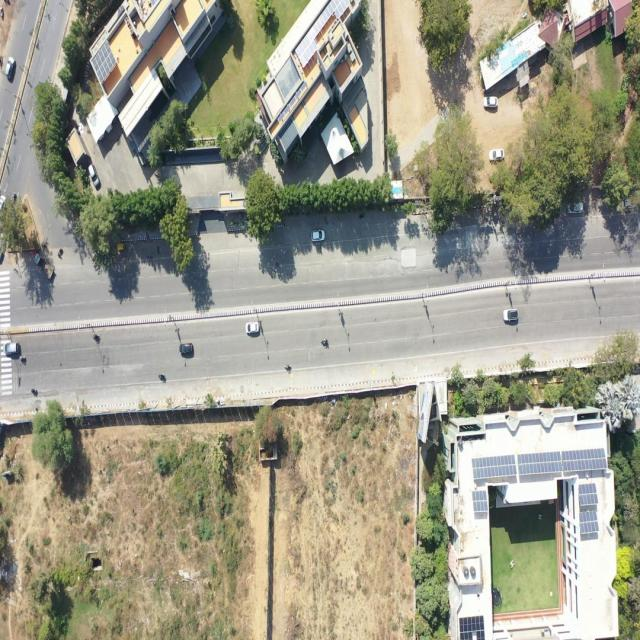3W: (114, 240, 126, 254)
Cars: (4, 52, 17, 82), (310, 226, 329, 246), (88, 160, 100, 191), (621, 190, 637, 211), (501, 305, 519, 323), (0, 194, 10, 223), (488, 147, 505, 164), (567, 200, 584, 217), (482, 95, 498, 111), (4, 341, 20, 356), (245, 321, 261, 336), (179, 341, 194, 355), (356, 209, 369, 222)
M2W: (11, 188, 20, 210), (157, 371, 169, 385), (319, 336, 331, 349), (0, 6, 9, 22), (284, 363, 294, 376), (57, 244, 64, 261), (19, 356, 29, 365), (93, 333, 102, 342), (32, 386, 39, 396)
MAV: (29, 250, 55, 284)
